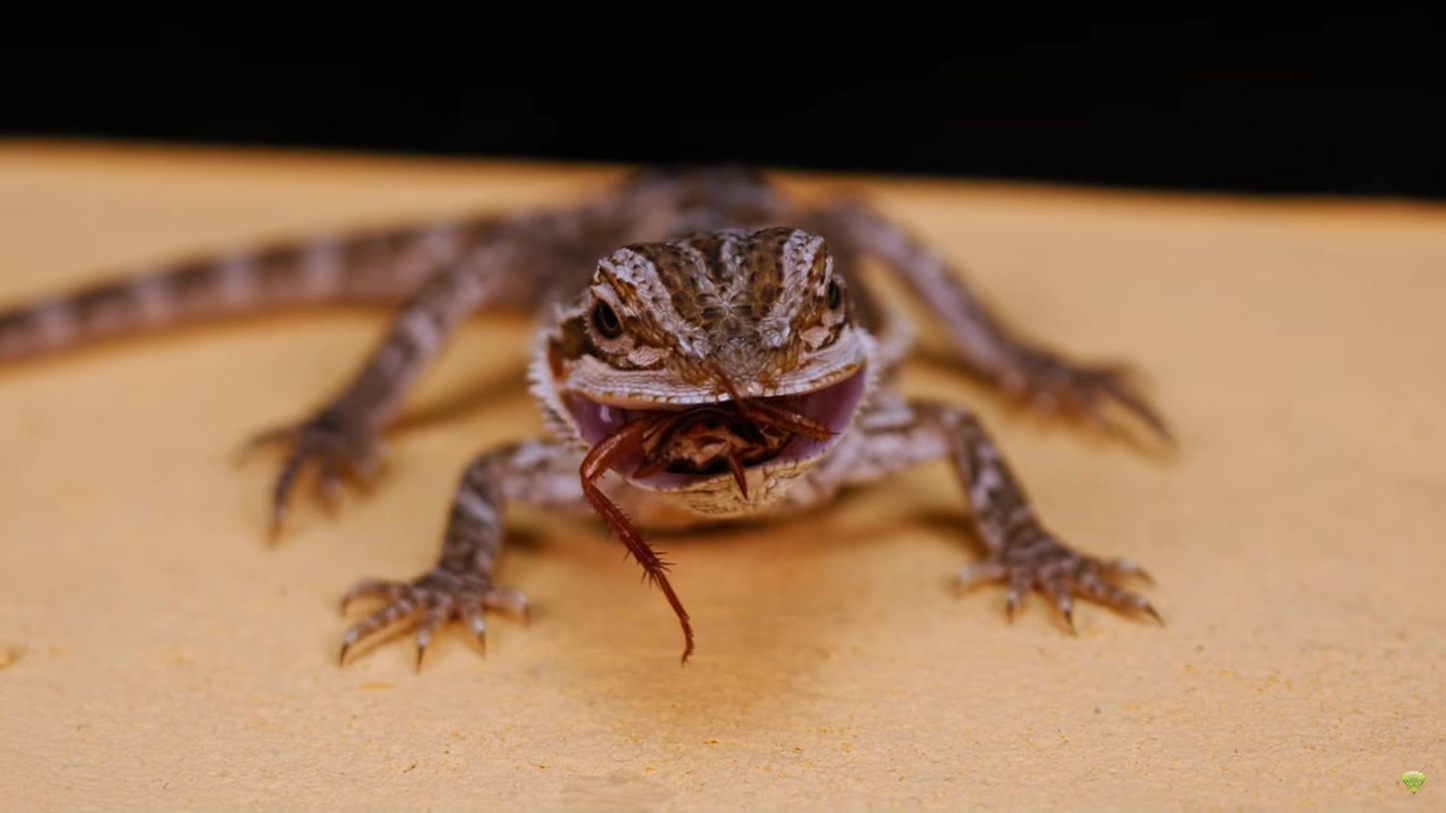cockroach: (565, 412, 843, 666)
lizard: (324, 229, 1164, 716)
